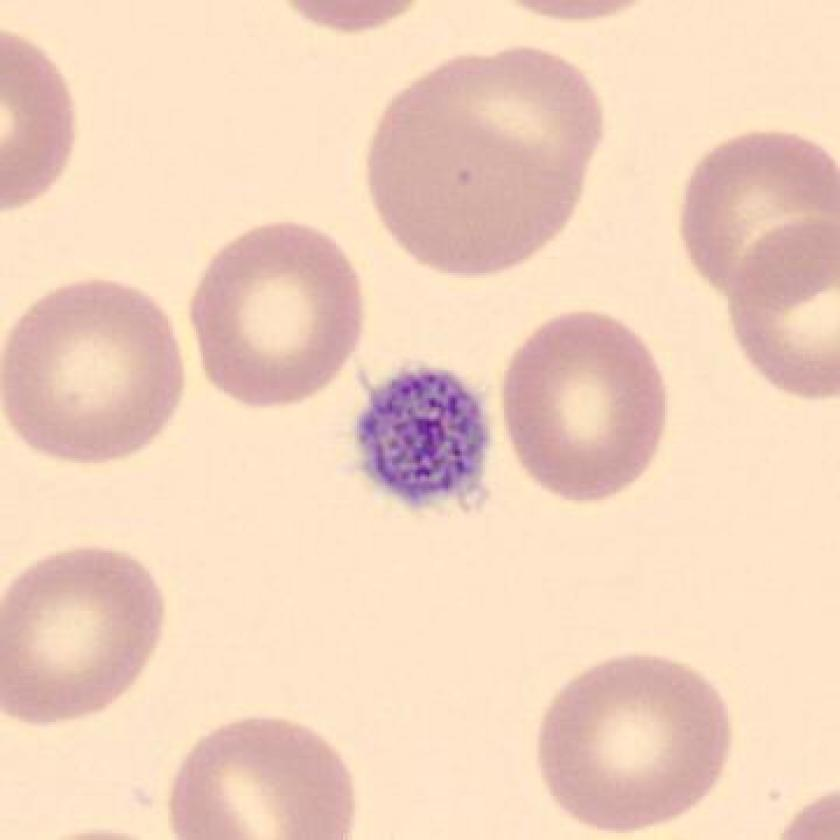platelets: (344, 362, 505, 519)
